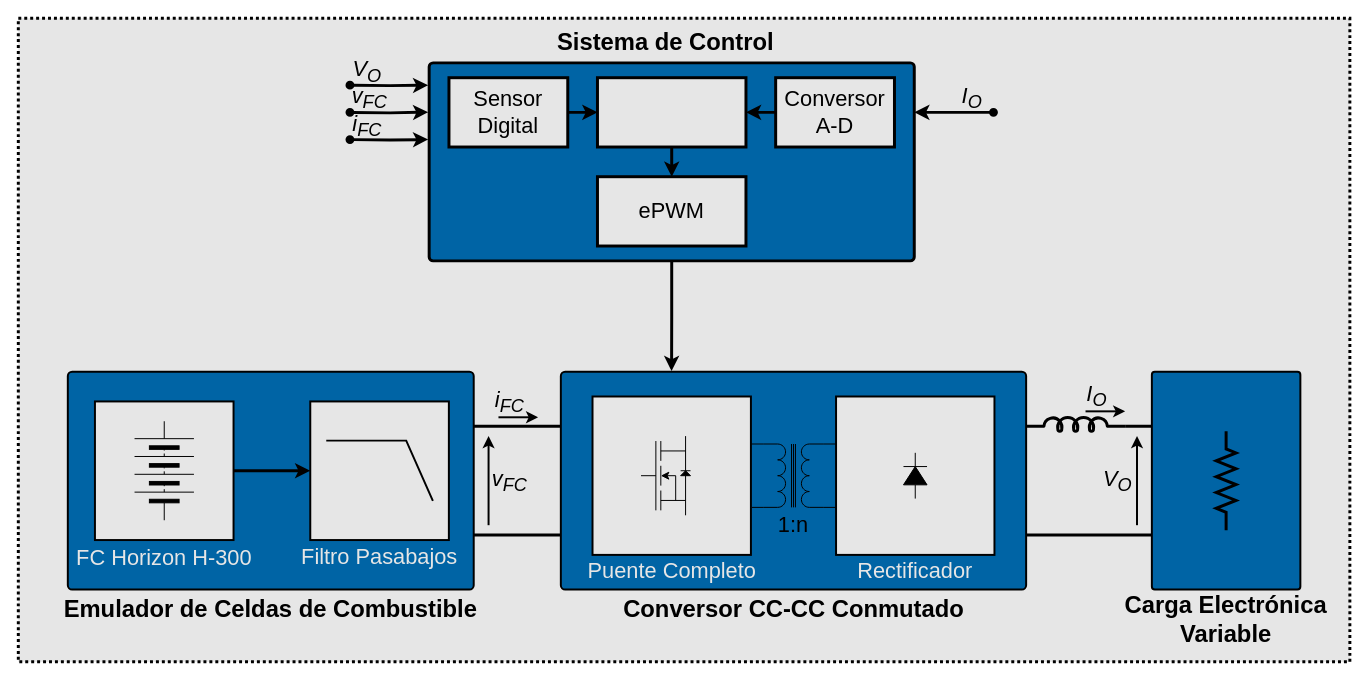
The diagram is 1368 pixels wide and 680 high, and some of its shapes have lost their labels. The centre of each missing label's shape, as x and y in pixels:
"Algoritmo de Control" goes at [671,112].
"L O" goes at [1075,423].
